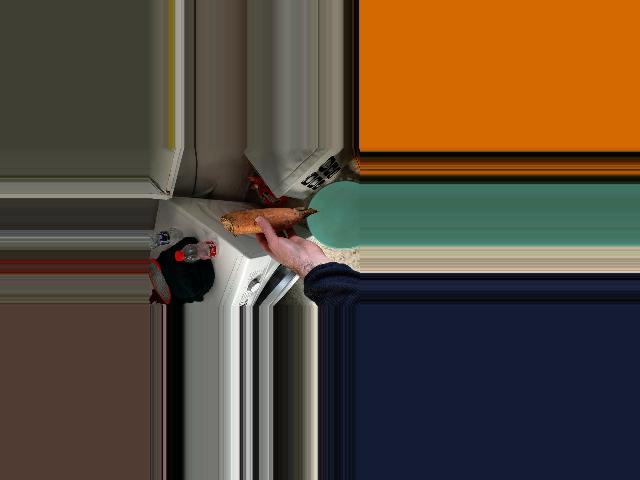sweet_potato: (224, 199, 316, 235)
